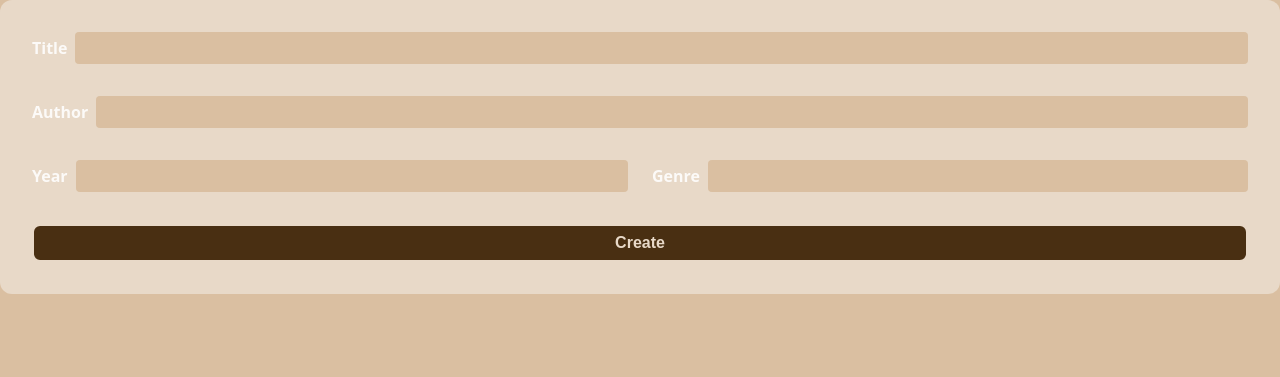
Test: Form › Create › should show validation errors if required fields are missing
Click the button "Create": (640, 243) top-left (32, 224), bottom-right (1248, 262)
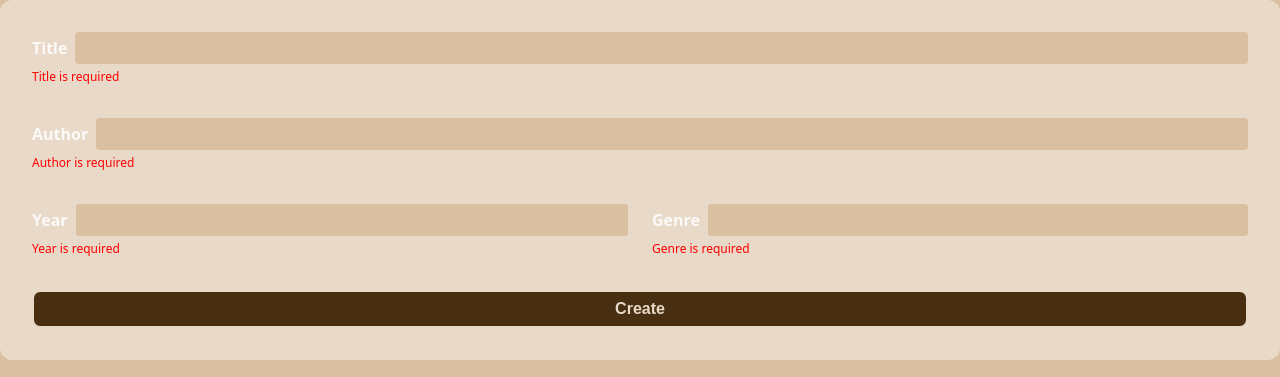
expect the text "Title is required" is shown: met, box top-left (32, 68), bottom-right (119, 85)
expect the text "Author is required" is shown: met, box top-left (32, 154), bottom-right (134, 171)
